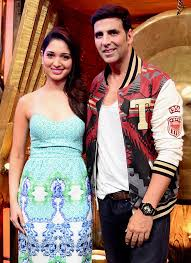Bad: (8, 5, 183, 263)
